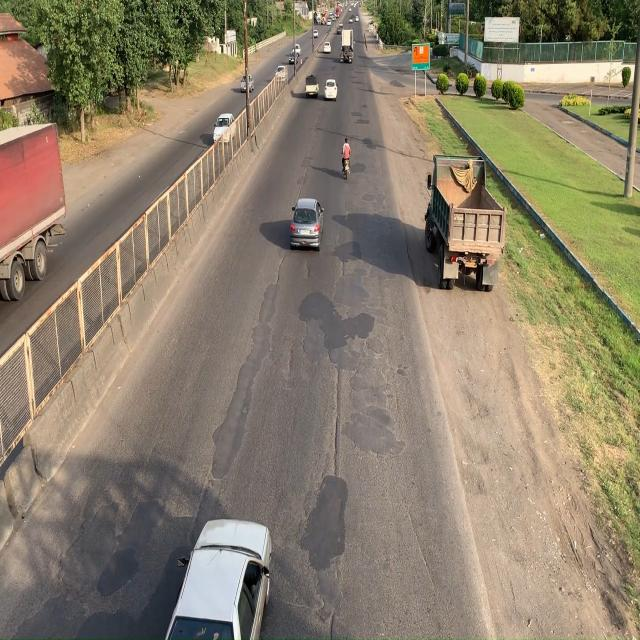Truck: (424, 153, 512, 293)
cars: (164, 498, 274, 640), (287, 193, 325, 254), (212, 102, 239, 146)
